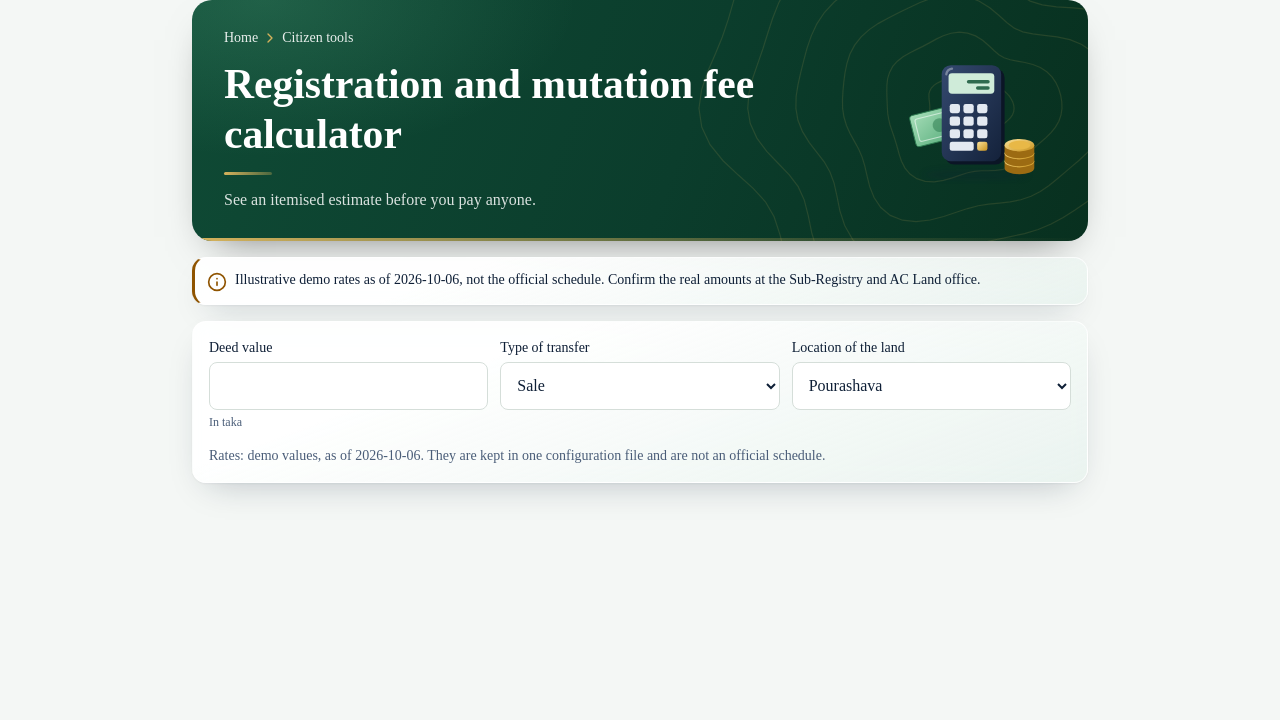
Test case: fee calculator › itemises a sale and totals it
The width and height of the screenshot is (1280, 720).
Type "1000000" into the field labelled "Deed value" at (349, 386), box x1=209 y1=362 x2=488 y2=410
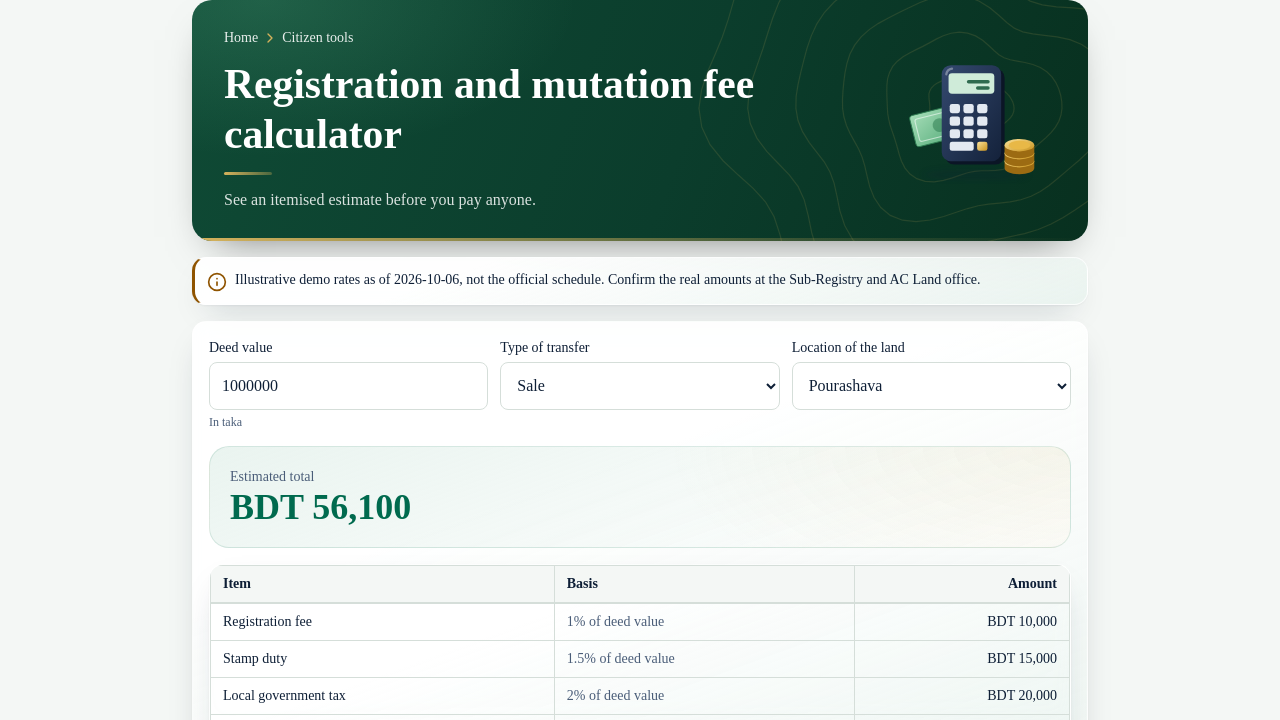
Select "City corporation" in the dropdown labelled "Location of the land" at (931, 386), box x1=792 y1=362 x2=1071 y2=410
(page scrolled)
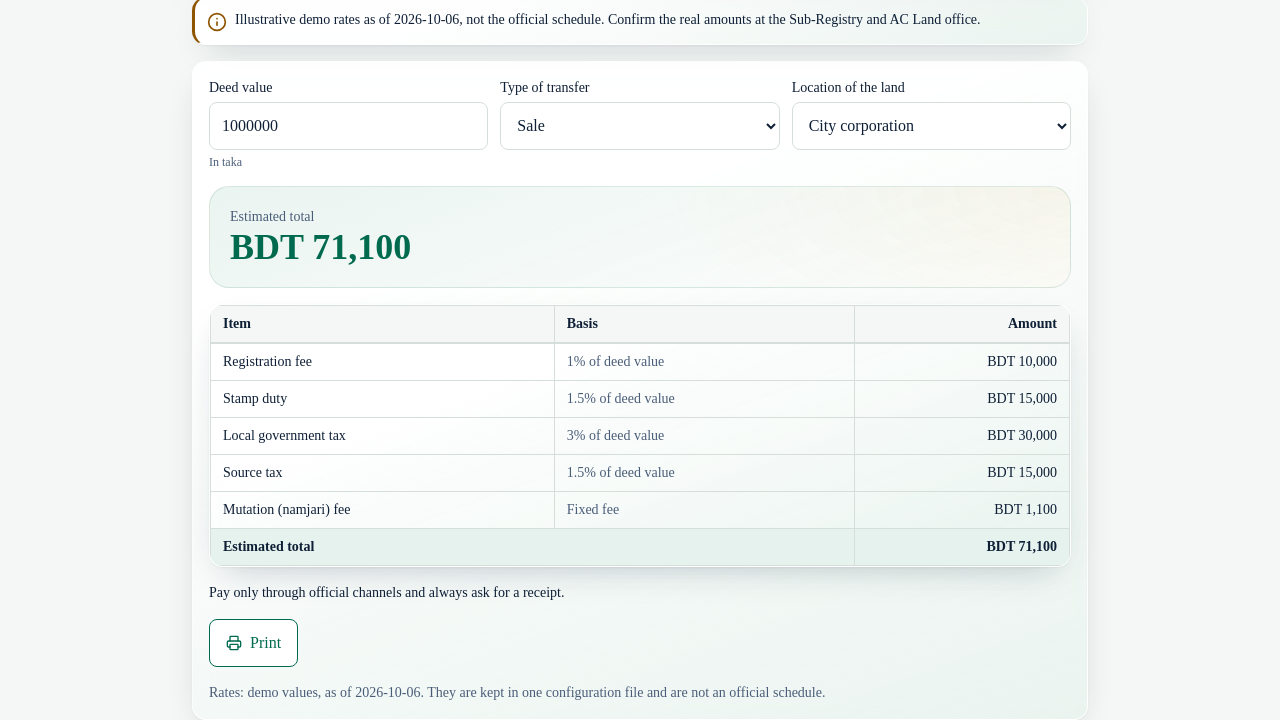
Now the column heading "Stamp duty" is shown, box x1=210 y1=380 x2=554 y2=417
Now the text "Pay only through official channels and always ask for a receipt." is shown, box x1=209 y1=585 x2=564 y2=600
Now the cell with test id "fee-total" shows "71,100", box x1=986 y1=539 x2=1057 y2=554
